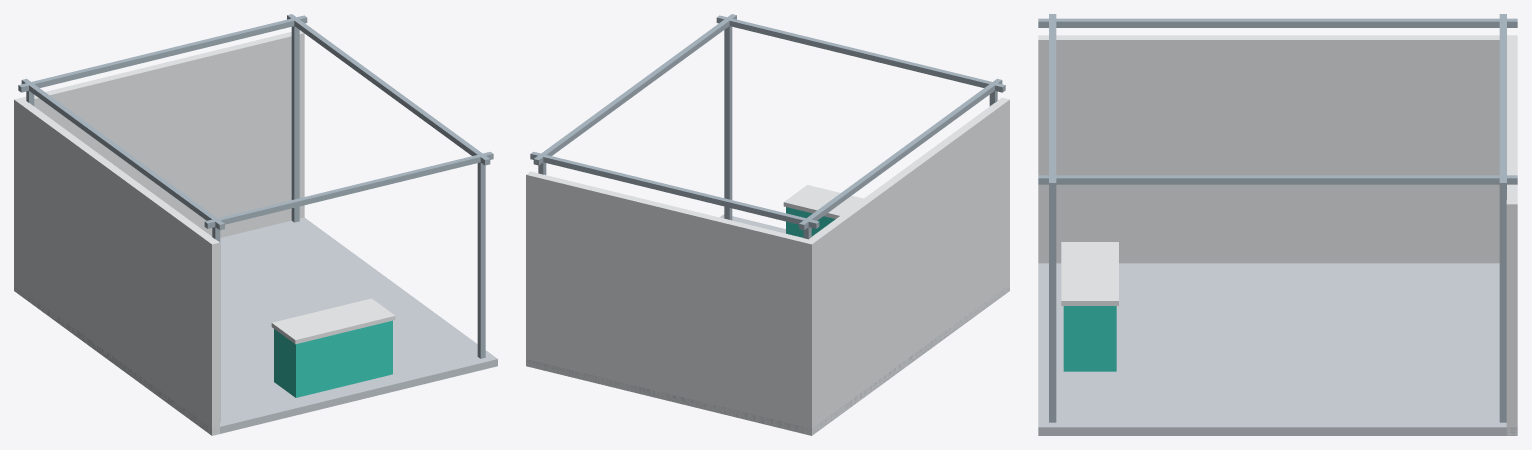
3 views of the same model, side by side, from view 1: azimuth 30°, elevation 25°; view 2: azimuth 150°, elevation 25°; view 3: azimuth 270°, elevation 25° (orthographic). The views are drawn at different scales.
Parts seen in each view (by area): view 1: Exhibition Booth Concept; view 2: Exhibition Booth Concept; view 3: Exhibition Booth Concept.
Boxes of the visible parts, x1,y1,x2,y2 form: Exhibition Booth Concept: (14,14,497,435); Exhibition Booth Concept: (526,14,1009,435); Exhibition Booth Concept: (1038,14,1517,435).
Size of the model in its own units: 5 by 3.49 by 6.
